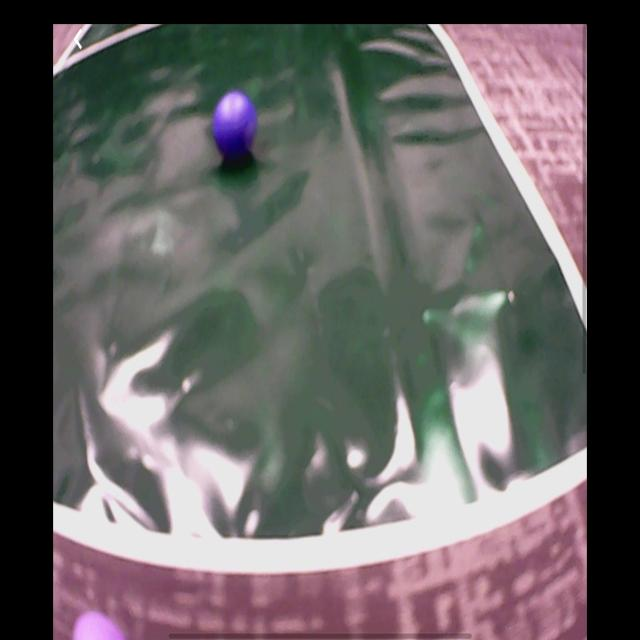ball: (212, 88, 258, 156), (70, 610, 129, 640)
